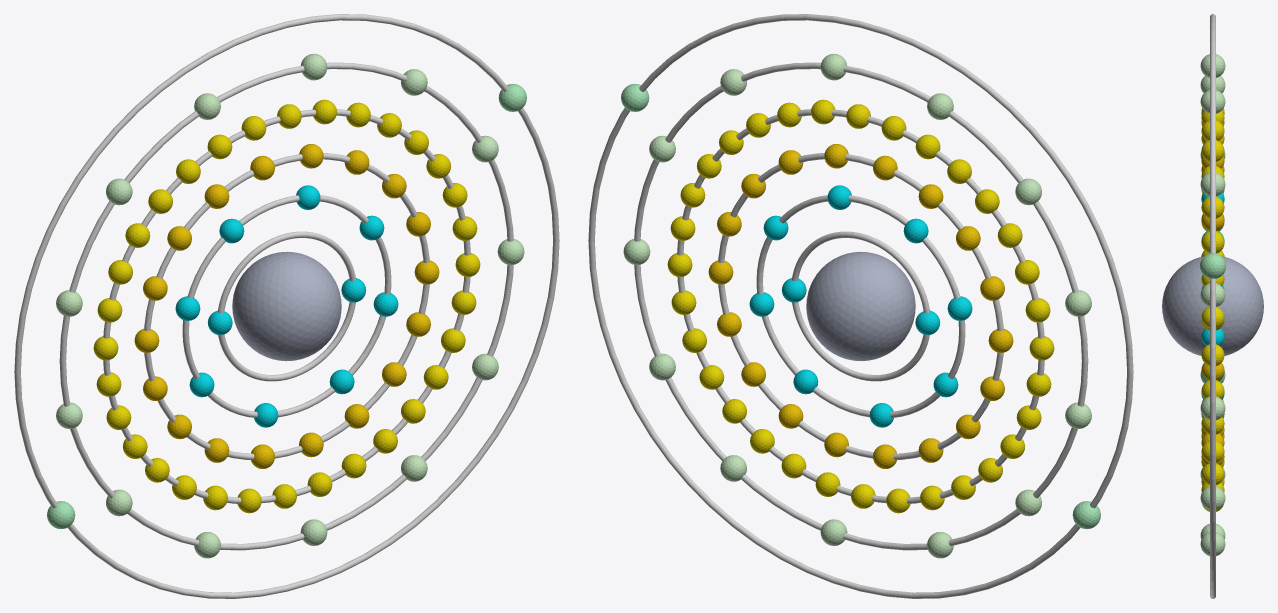
3 renders of one model, left to right at view 1: azimuth 30°, elevation 25°; view 2: azimuth 150°, elevation 25°; view 3: azimuth 270°, elevation 25°, orthographic. The views are drawn at different scales.
Parts seen in each view (by area): view 1: world; view 2: world; view 3: world.
Part boxes in pixels (x1,y1,x2,y2): world: [14, 14, 559, 598]; world: [588, 14, 1133, 598]; world: [1162, 14, 1263, 598].
Size of the model in its own units: 2.53 by 2.53 by 0.44.
